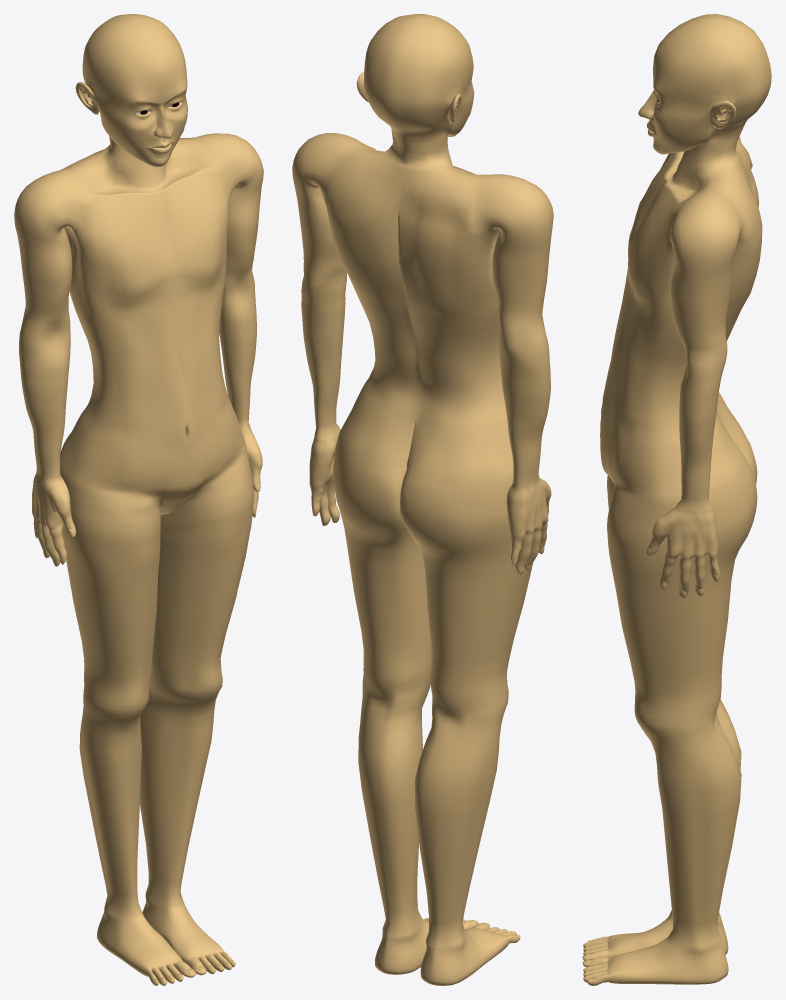
File: hito_rahu.fbx
The picture shows the model from 3 angles, left to right: view 1: azimuth 30°, elevation 25°; view 2: azimuth 150°, elevation 25°; view 3: azimuth 270°, elevation 25°; orthographic projection. The views are drawn at different scales.
Visible parts, largest first — view 1: body; view 2: body; view 3: body.
Part boxes in pixels (bbox=[...]): body: bbox=[14, 14, 263, 985]; body: bbox=[292, 14, 553, 985]; body: bbox=[582, 14, 771, 985].
Size of the model in its own units: 1.25 by 4.57 by 0.8272.
